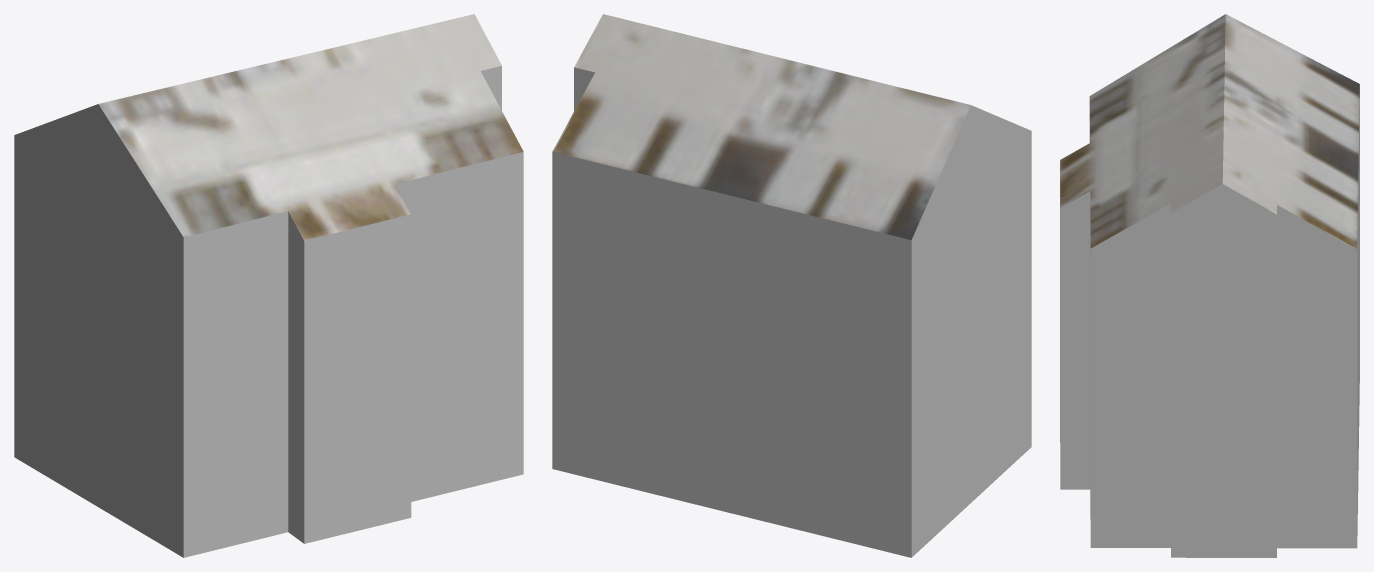
The model's file is DEBW_0010007TxiL.gltf.
3 renders of one model, left to right at view 1: azimuth 30°, elevation 25°; view 2: azimuth 150°, elevation 25°; view 3: azimuth 270°, elevation 25°, orthographic. The views are drawn at different scales.
Visible parts, largest first — view 1: Z_UP; view 2: Z_UP; view 3: Z_UP.
Part boxes in pixels (x1,y1,x2,y2): Z_UP: (14,14,523,557); Z_UP: (552,14,1031,557); Z_UP: (1060,14,1359,557).
Bounding box in the file's own units: 18.03 × 17.97 × 13.04.
2 materials, 1 textured.
